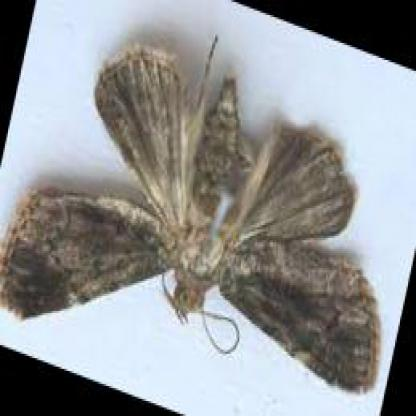Leaf Webber: (2, 47, 378, 392)
